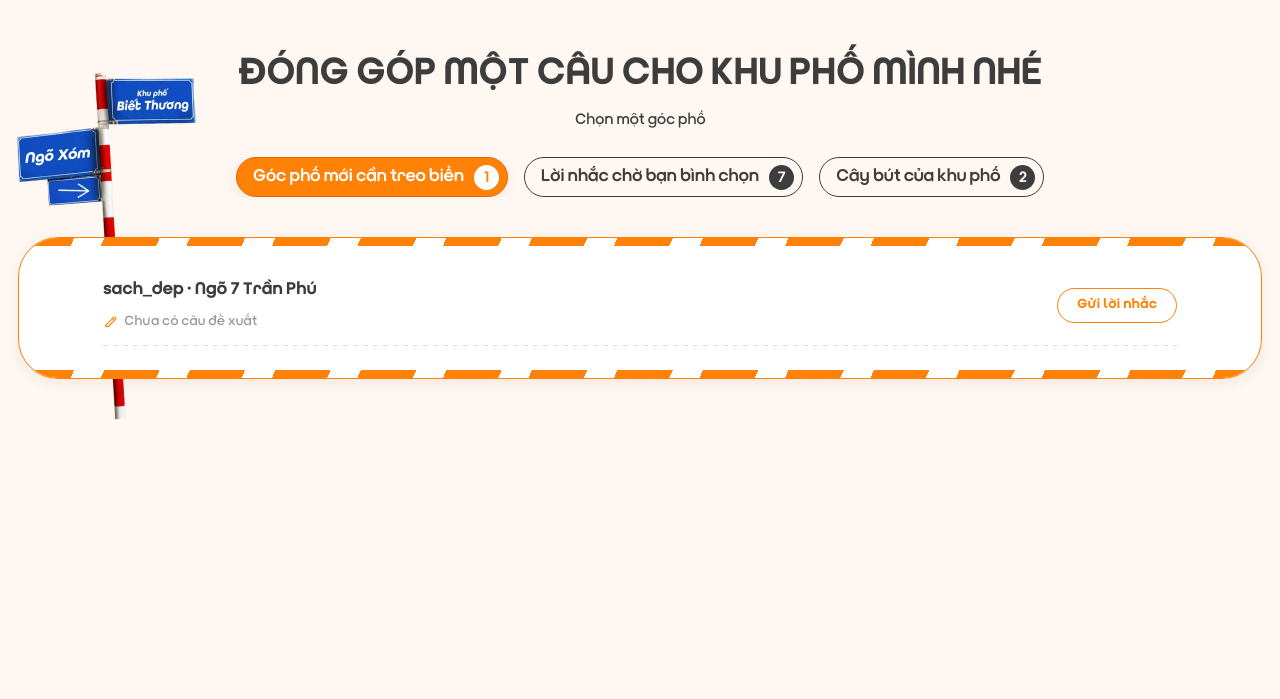
Test case: IssueBoard — tab 2 'Lời nhắc chờ bạn bình chọn' (Figma live 4/9) › chỉ 5 câu đầu và KHÔNG có thanh phân trang (review 7/9)
What coordinates should you click on to do the following:
click the text "Lời nhắc chờ bạn bình chọn"
I would click on:
 (650, 177)
Its box is 541,163 -> 759,191.
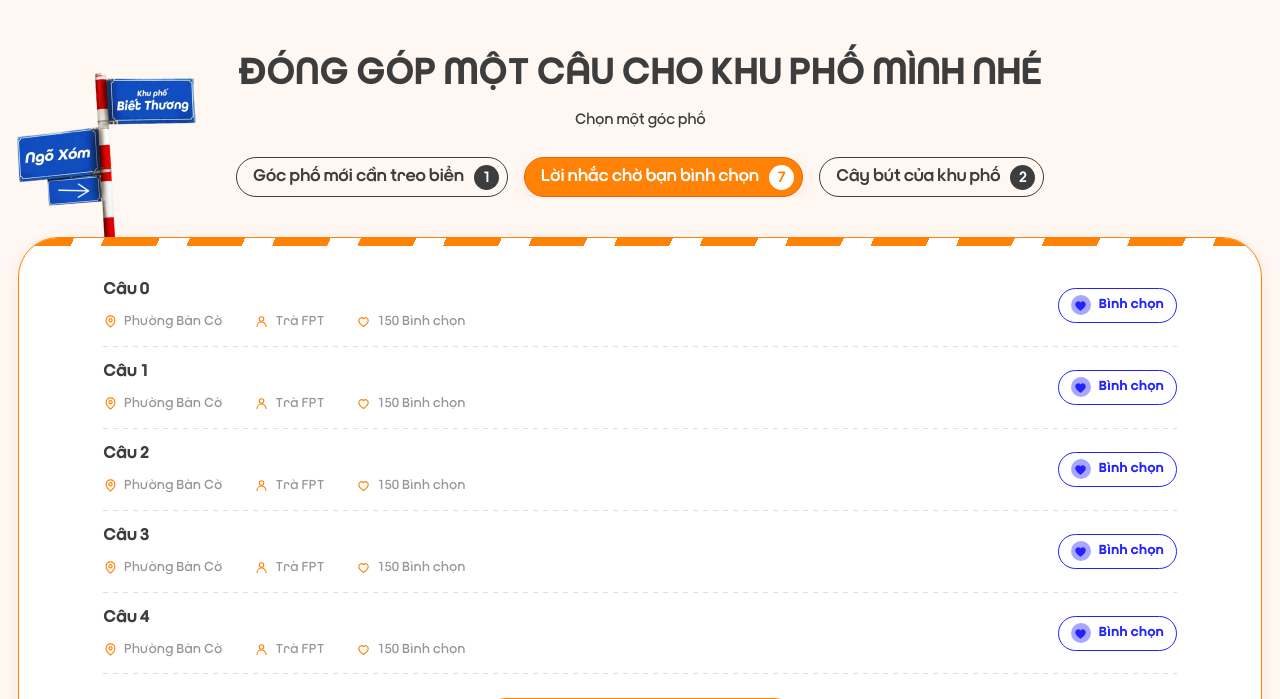
Check: the text "Câu 4" is shown, box 103,608 -> 149,627
